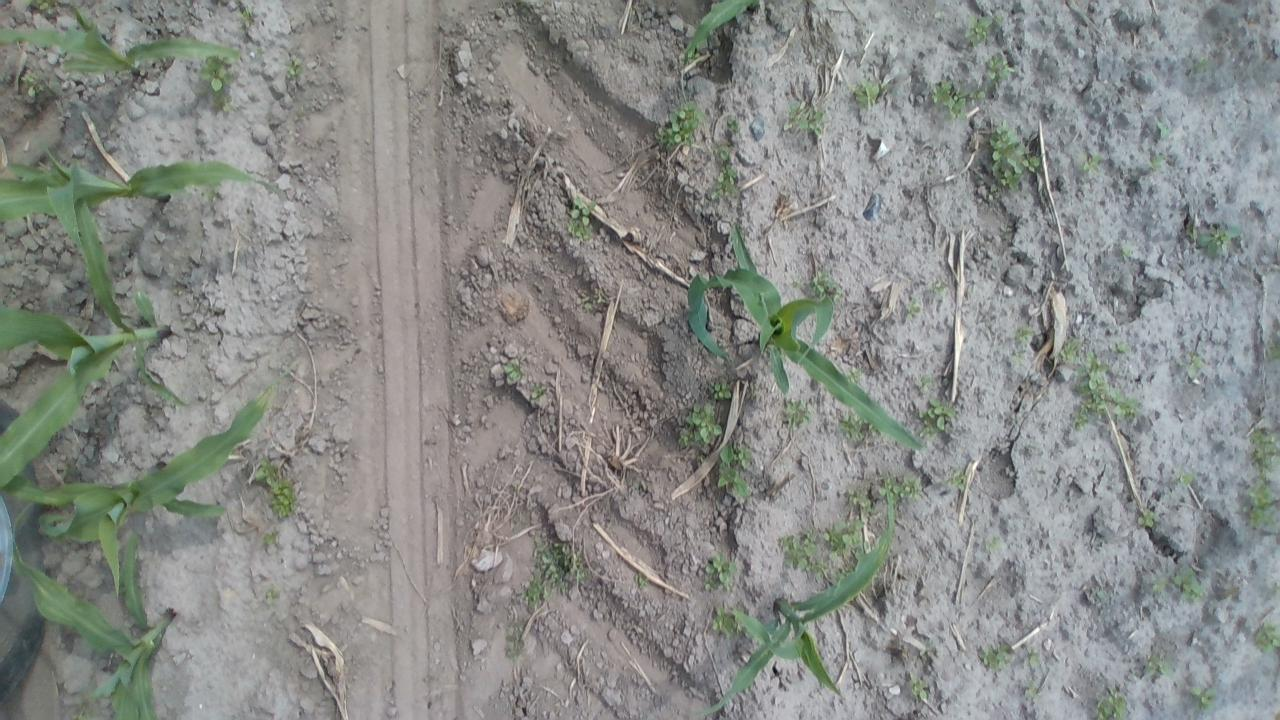Maize: (3, 366, 291, 630), (1, 170, 189, 490), (687, 218, 925, 456), (676, 494, 906, 710), (9, 529, 176, 716), (3, 142, 280, 230), (0, 0, 241, 85), (679, 0, 762, 77)
Weeds: (520, 531, 590, 609), (1069, 354, 1141, 428), (779, 523, 860, 582), (986, 123, 1040, 192), (252, 455, 298, 518), (653, 100, 705, 153), (676, 402, 726, 450), (1188, 217, 1242, 261), (929, 78, 984, 121), (716, 442, 753, 501), (783, 96, 828, 140), (201, 58, 236, 109), (1244, 477, 1274, 529), (916, 397, 956, 436), (700, 552, 737, 593), (566, 195, 596, 244), (1250, 426, 1276, 480), (876, 472, 924, 501), (849, 78, 887, 112), (1092, 686, 1131, 719), (836, 412, 878, 442), (1167, 568, 1205, 601), (712, 153, 737, 203), (502, 620, 528, 668), (983, 52, 1015, 86), (710, 604, 740, 638), (780, 400, 814, 428), (980, 642, 1014, 670), (964, 14, 993, 46), (20, 70, 48, 103), (809, 271, 842, 299), (502, 359, 530, 386), (1190, 682, 1218, 709), (1254, 618, 1276, 652), (906, 672, 930, 702), (848, 488, 874, 515), (578, 288, 606, 312), (1079, 152, 1105, 177), (710, 375, 734, 400), (1135, 504, 1158, 530), (1146, 655, 1170, 679), (235, 6, 259, 30), (1008, 324, 1034, 346), (948, 467, 974, 489), (282, 56, 302, 84), (1182, 352, 1204, 377), (1144, 152, 1168, 172), (1024, 646, 1044, 670), (1060, 338, 1080, 362), (1149, 573, 1168, 598), (24, 1, 59, 14), (264, 528, 284, 550), (904, 296, 924, 318), (1110, 340, 1133, 359), (530, 380, 548, 404), (632, 572, 652, 593), (1176, 468, 1196, 489), (1088, 583, 1106, 606), (1192, 56, 1210, 79), (984, 534, 1004, 554), (724, 115, 744, 135), (930, 277, 949, 296), (916, 373, 934, 393), (263, 585, 281, 604), (1155, 120, 1170, 142), (68, 706, 95, 718), (846, 365, 864, 383), (1024, 678, 1040, 698), (1118, 242, 1133, 262), (1265, 340, 1277, 360)
